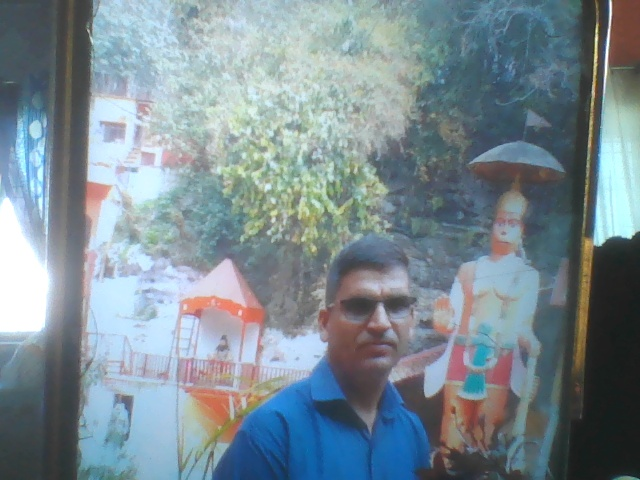fake: (313, 218, 437, 394)
